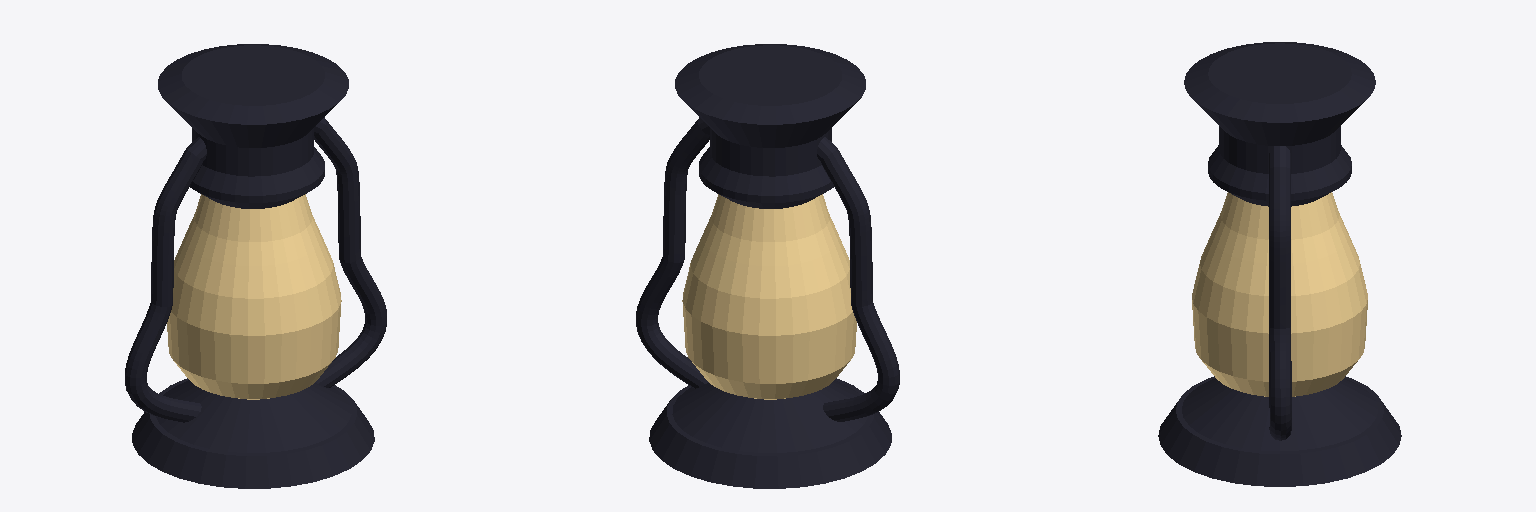
3 views of the same model, side by side, from view 1: azimuth 30°, elevation 25°; view 2: azimuth 150°, elevation 25°; view 3: azimuth 270°, elevation 25° (orthographic).
Visible parts, largest first — view 1: BezierCurve.001; view 2: BezierCurve.001; view 3: BezierCurve.001.
Boxes of the visible parts, x1,y1,x2,y2 form: BezierCurve.001: [125, 44, 386, 488]; BezierCurve.001: [636, 44, 899, 488]; BezierCurve.001: [1158, 42, 1401, 486].
Bounding box in the file's own units: 8.32 × 11.05 × 6.73.
1 materials, 1 textured.